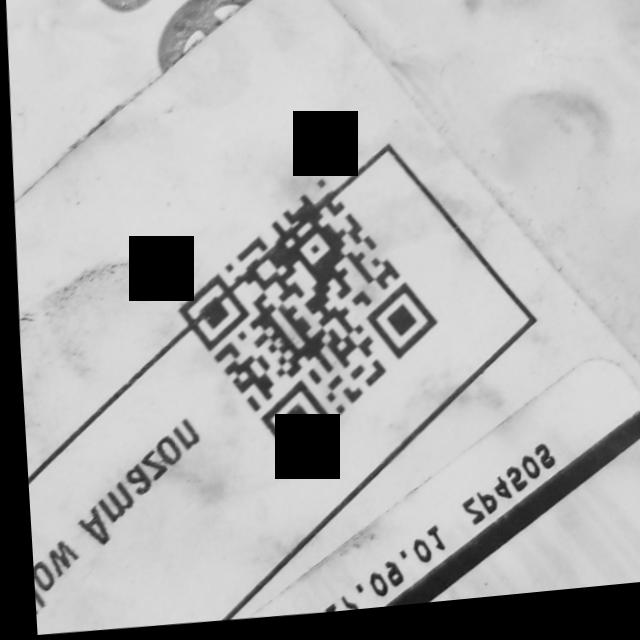QR_CODE: (155, 155, 449, 488)
